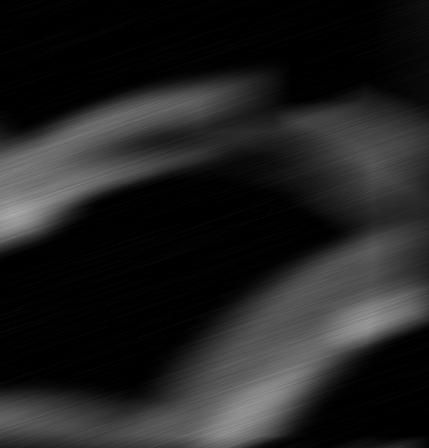Airbag: (0, 0, 429, 448), (407, 3, 429, 448)
